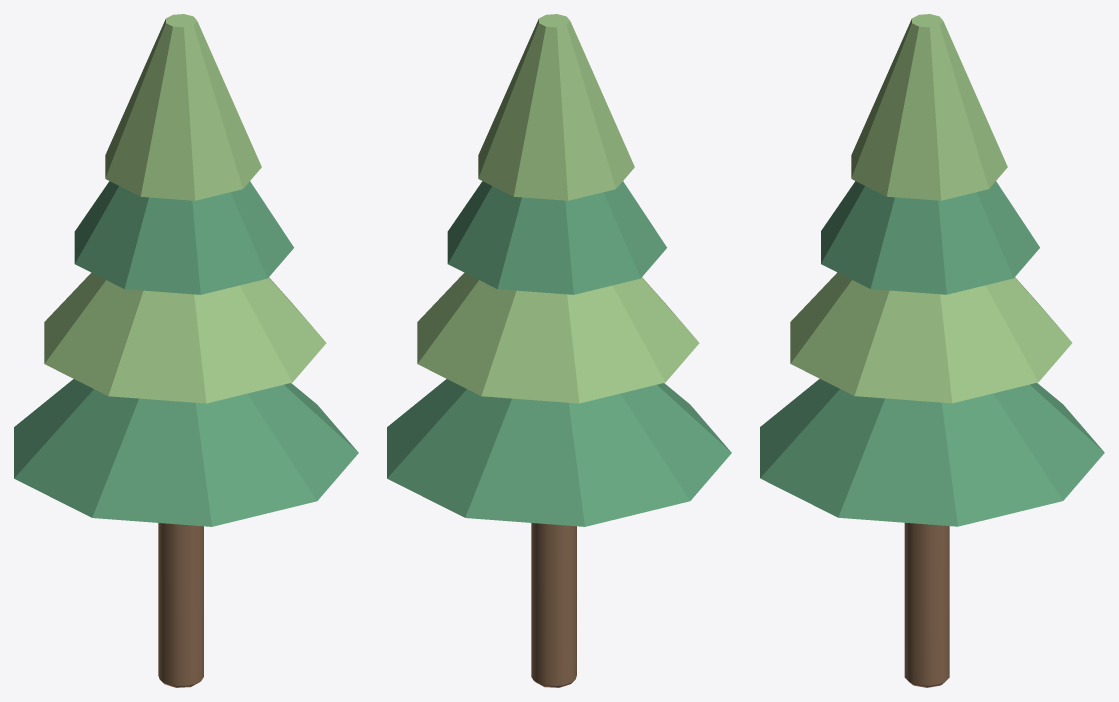
Rendered from MYB96_AlpinePineTall.fbx.
3 views of the same model, side by side, from view 1: azimuth 30°, elevation 25°; view 2: azimuth 150°, elevation 25°; view 3: azimuth 270°, elevation 25° (orthographic).
Parts seen in each view (by area): view 1: bough_0, bough_1, bough_3, bough_2, trunk.001; view 2: bough_0, bough_1, bough_3, bough_2, trunk.001; view 3: bough_0, bough_1, bough_3, bough_2, trunk.001.
Boxes of the visible parts, x1,y1,x2,y2 form: bough_0: (14, 379, 358, 526); bough_1: (44, 272, 326, 403); bough_3: (105, 14, 261, 200); bough_2: (74, 181, 293, 294); trunk.001: (158, 523, 203, 687); bough_0: (387, 379, 731, 526); bough_1: (417, 272, 699, 403); bough_3: (478, 14, 634, 200); bough_2: (447, 181, 666, 294); trunk.001: (531, 523, 576, 687); bough_0: (760, 379, 1104, 526); bough_1: (790, 272, 1072, 403); bough_3: (851, 14, 1007, 200); bough_2: (821, 181, 1039, 294); trunk.001: (904, 522, 949, 687).
Size of the model in its own units: 86.66 by 180 by 85.35.
